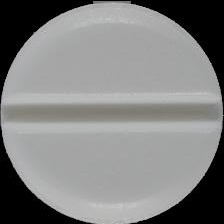16714-372: (0, 0, 224, 224)
